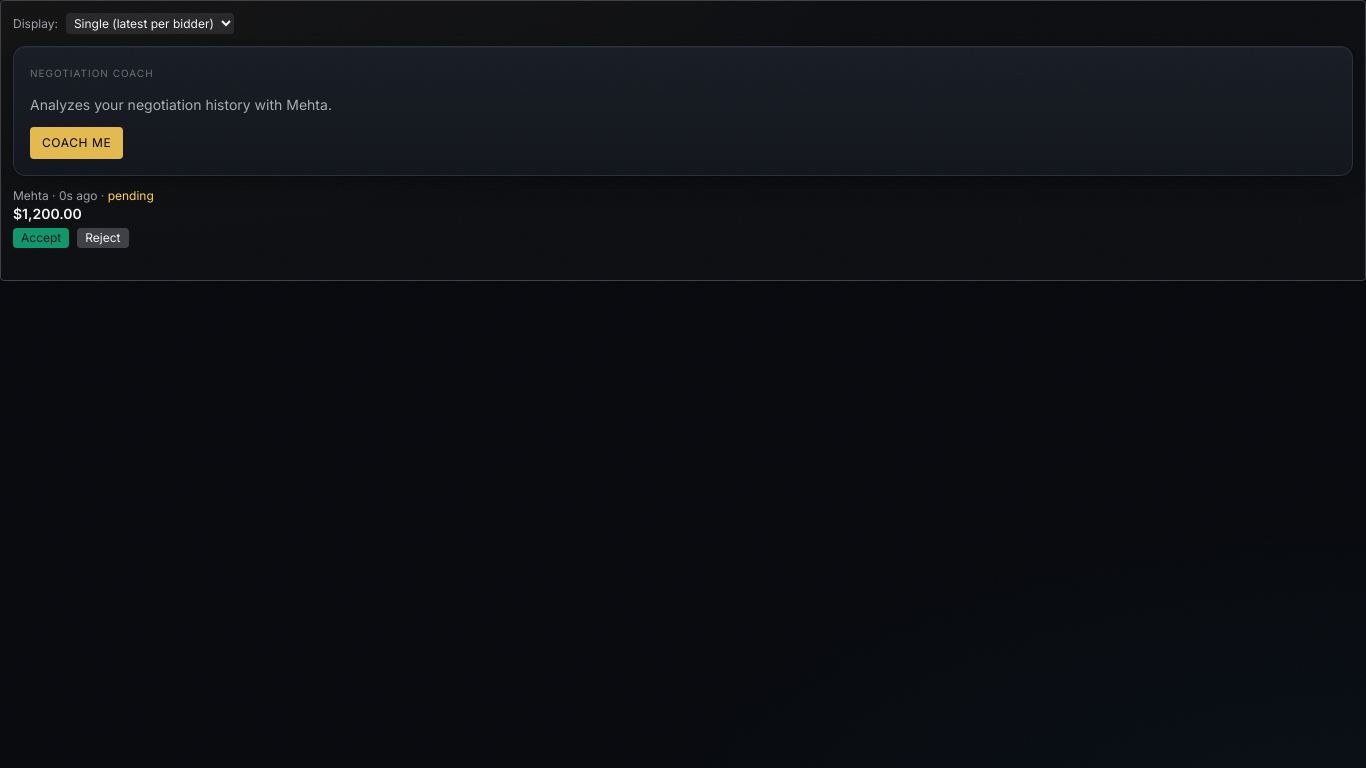
DealBidsTab › renders alert when Accept fails
This screenshot has width=1366, height=768.
Click the button with aria-label "accept bid 7" at [41, 238], box [13,228,69,248]
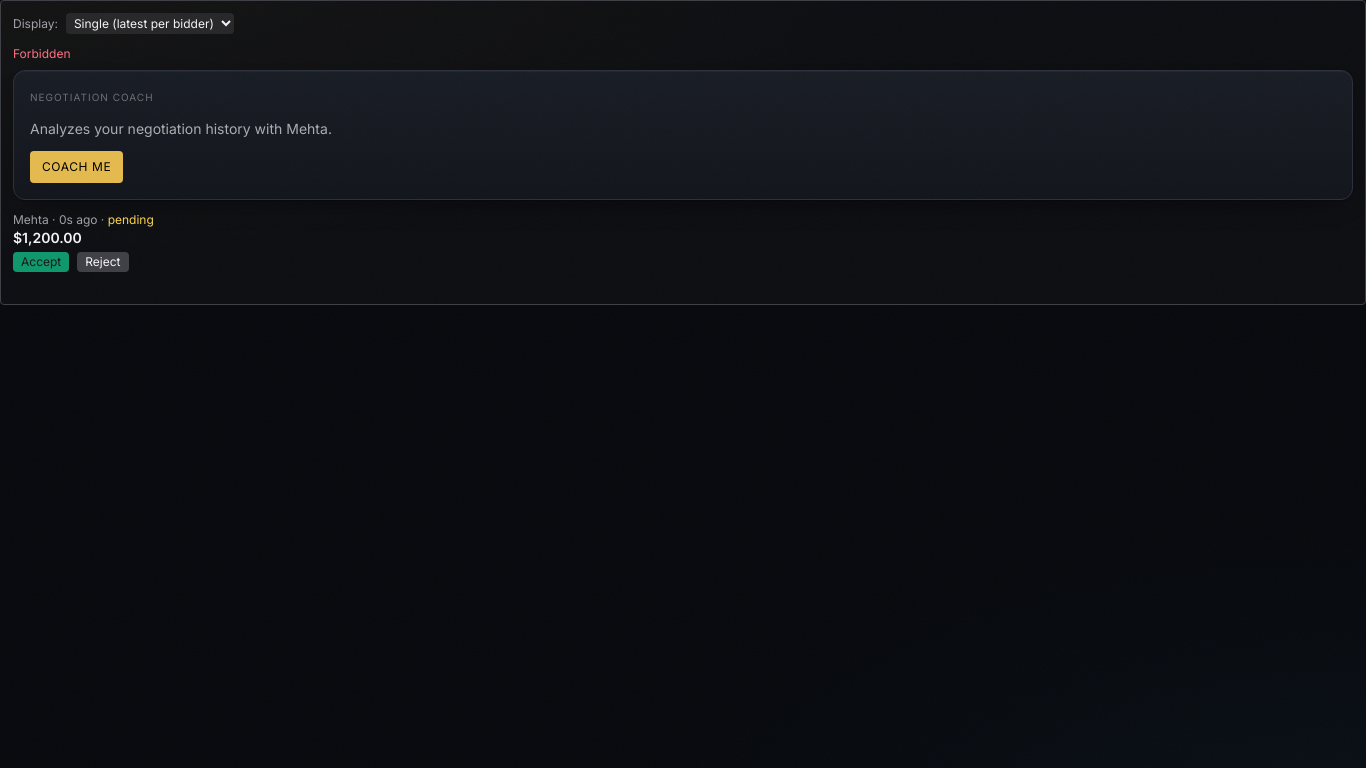
expect the message reads "Forbidden": met, box [13,46,70,61]
